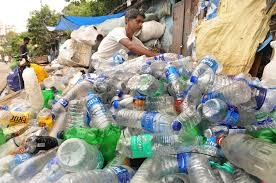plastic: (215, 133, 276, 182), (56, 138, 120, 175), (113, 131, 194, 158), (51, 162, 139, 182), (47, 78, 93, 113), (50, 124, 118, 146), (84, 90, 118, 133), (204, 100, 262, 124), (196, 79, 254, 103), (114, 109, 179, 130), (189, 52, 220, 84), (22, 130, 65, 151), (187, 154, 218, 183), (23, 66, 41, 110), (162, 63, 184, 98)
